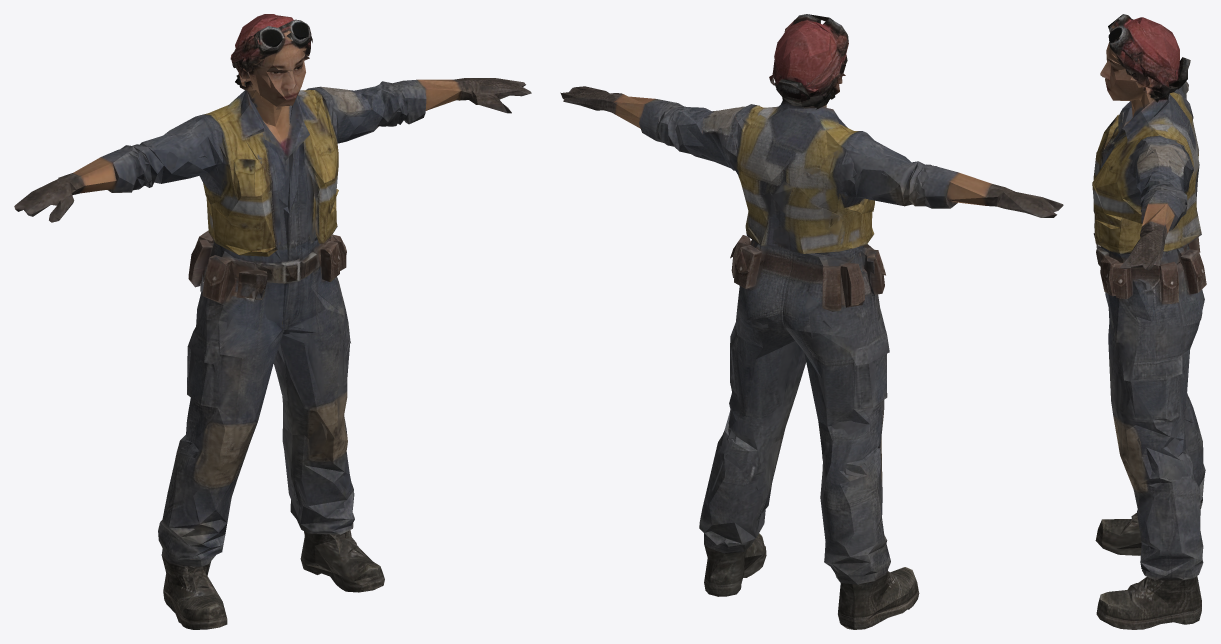
The model's file is mechanic.glb.
3 views of the same model, side by side, from view 1: azimuth 30°, elevation 25°; view 2: azimuth 150°, elevation 25°; view 3: azimuth 270°, elevation 25° (orthographic). The views are drawn at different scales.
Size of the model in its own units: 1.73 by 1.89 by 0.3474.
Materials: 1 (1 with a texture image).
